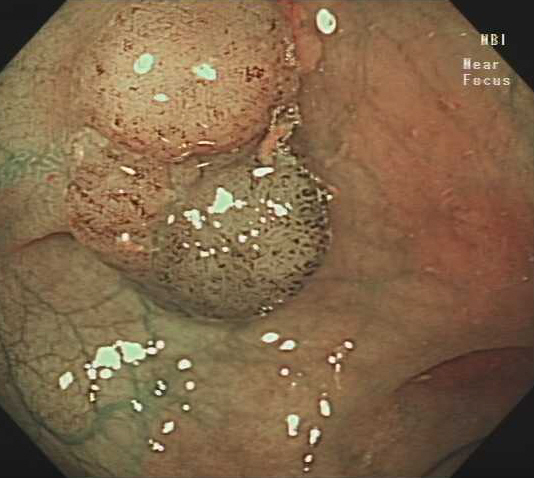adenoma: (60, 143, 332, 327), (67, 1, 304, 160)
